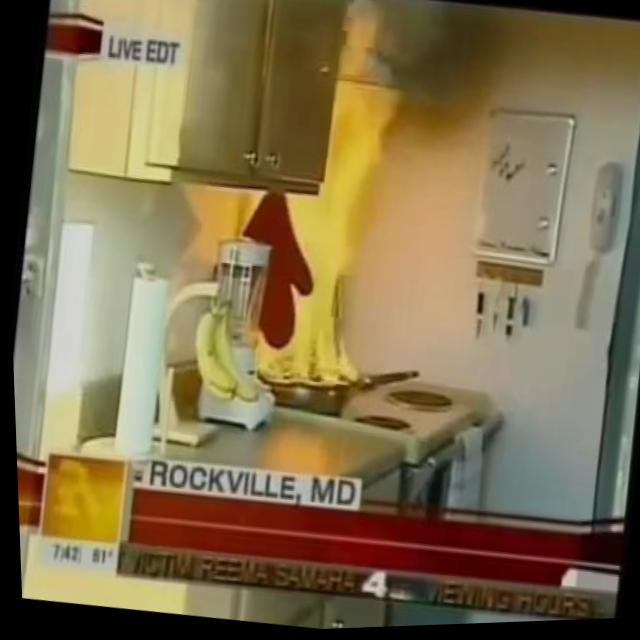fire: (245, 164, 385, 400)
